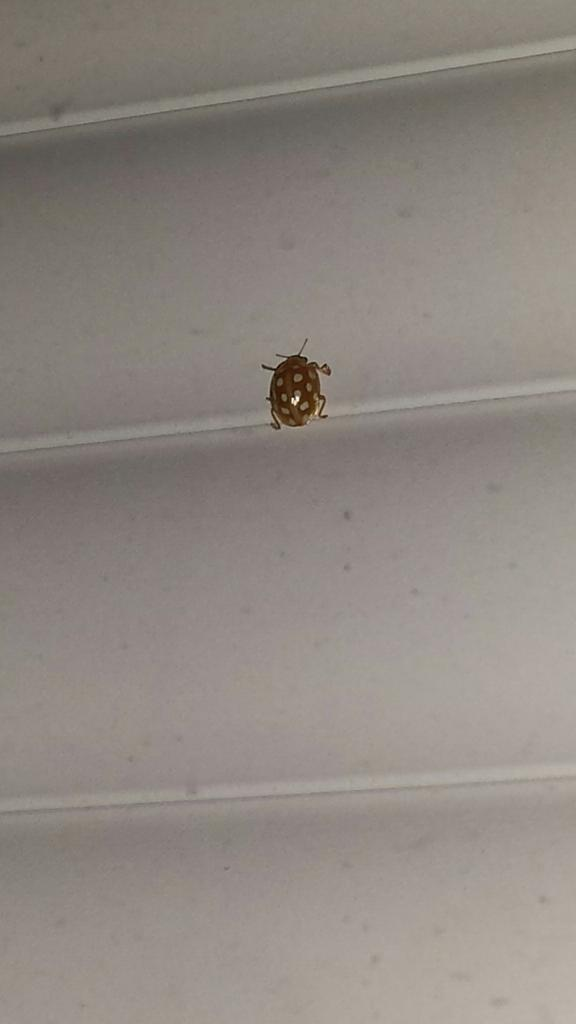ladybug: (261, 336, 339, 436)
